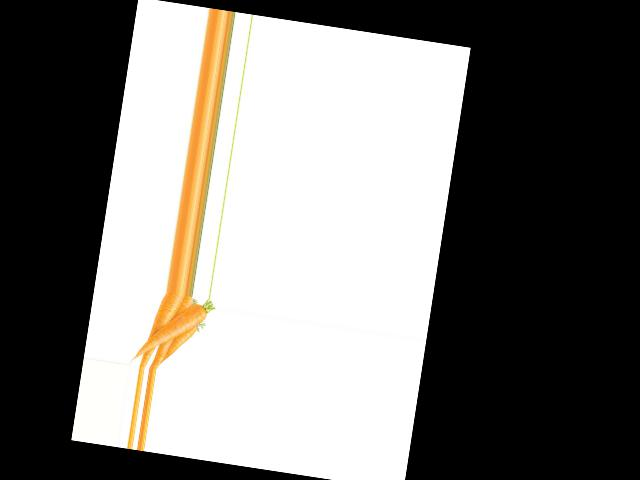carrot: (151, 291, 183, 353)
